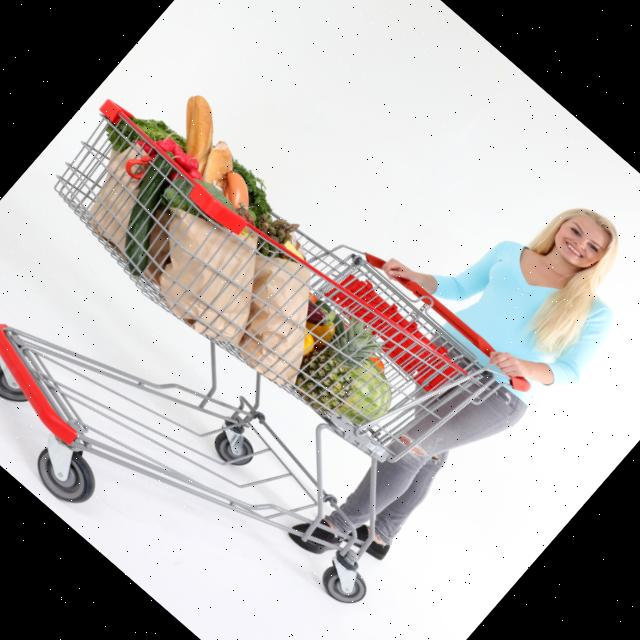Person: (209, 130, 640, 610)
